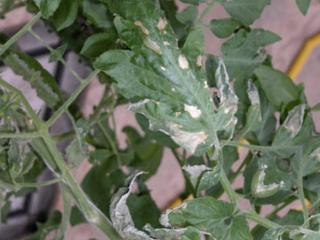Tomato leaf bacterial spot: (66, 0, 270, 175)
